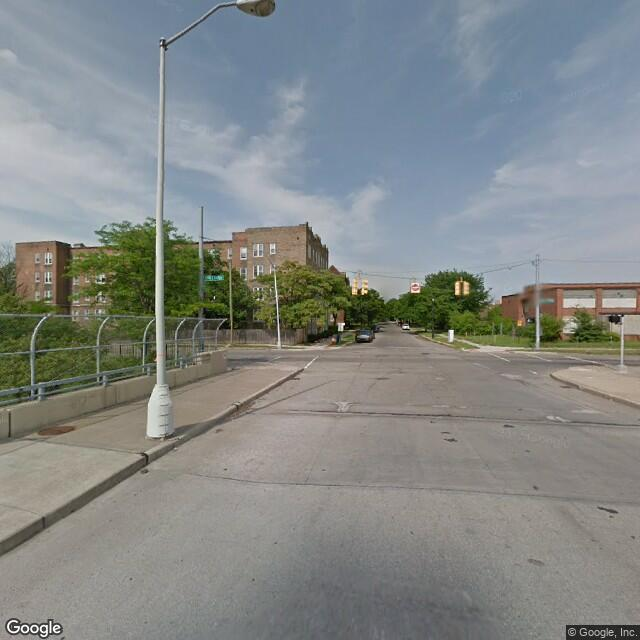litter: (172, 446, 178, 452)
